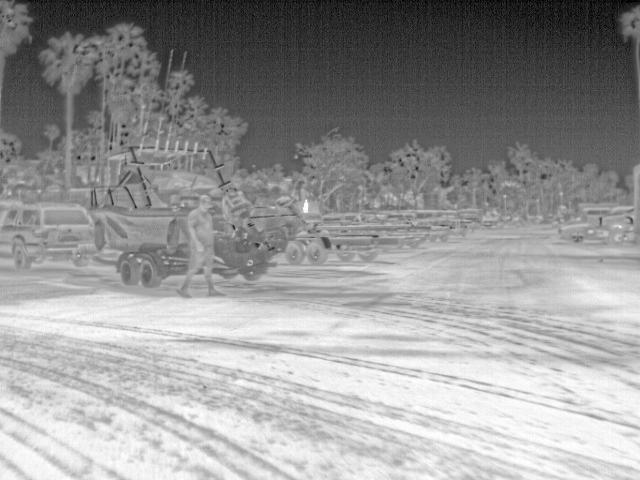car: (3, 203, 96, 269), (556, 222, 588, 244)
person: (175, 194, 227, 296)
